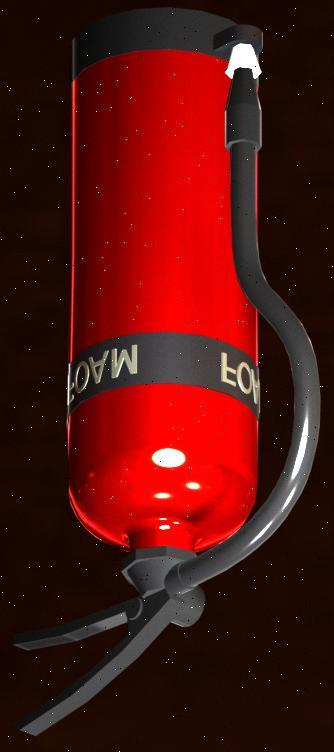Fire Extinguisher: (14, 30, 334, 752)
